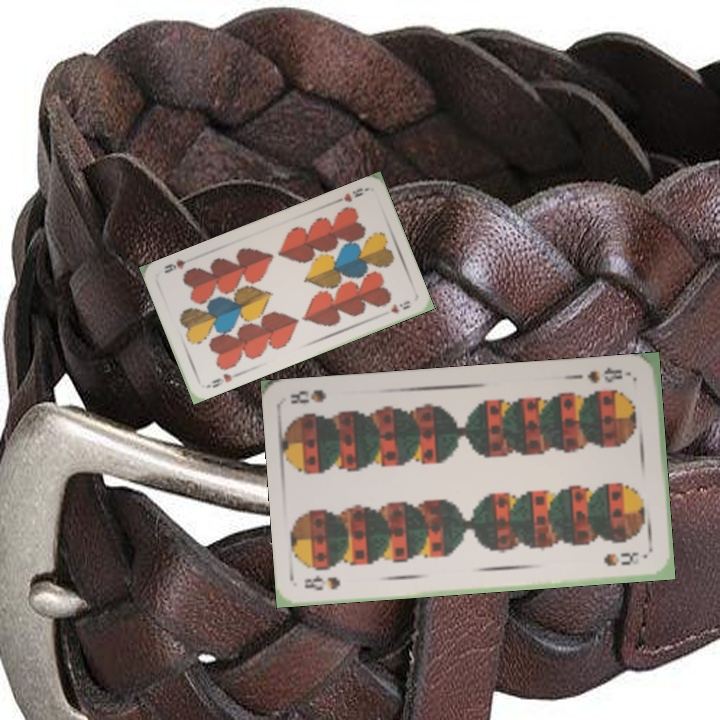H9: (331, 184, 366, 206), (208, 369, 241, 390)
S8: (583, 363, 626, 386), (300, 571, 343, 594)
